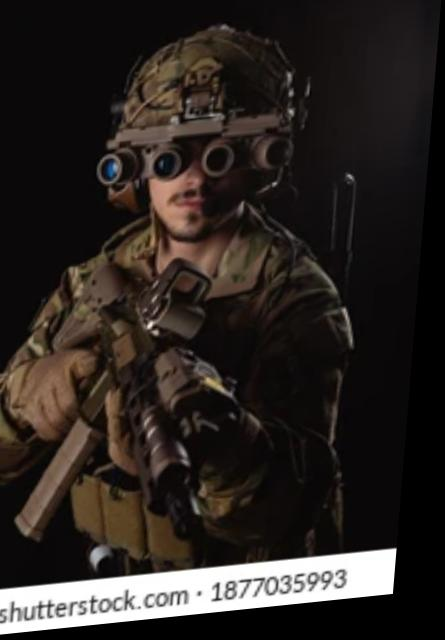other: (0, 17, 384, 586)
